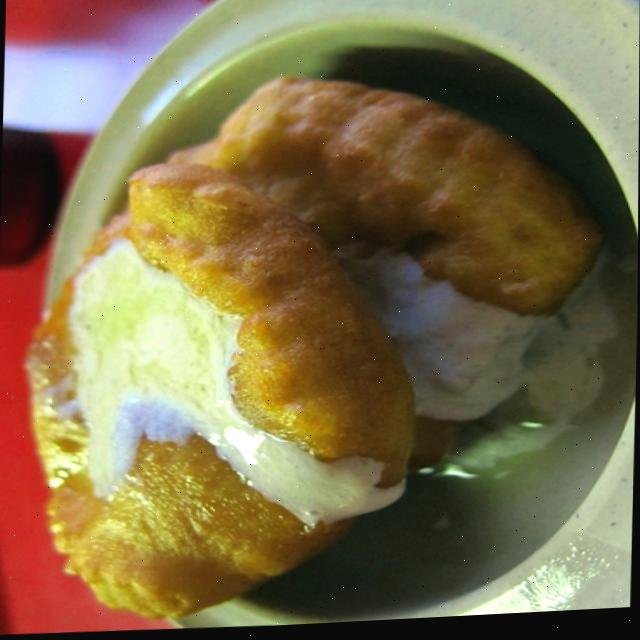面包点心: (3, 49, 600, 640)
